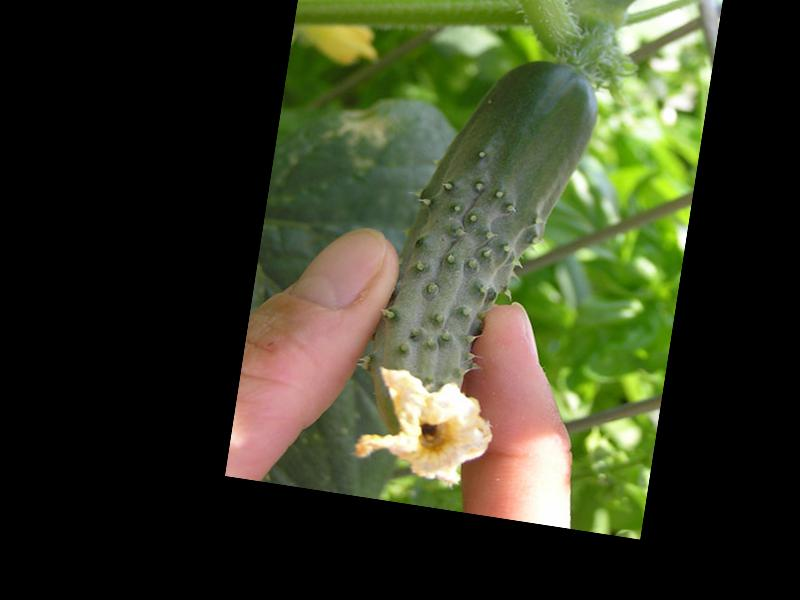Cucumber: (352, 39, 602, 496)
